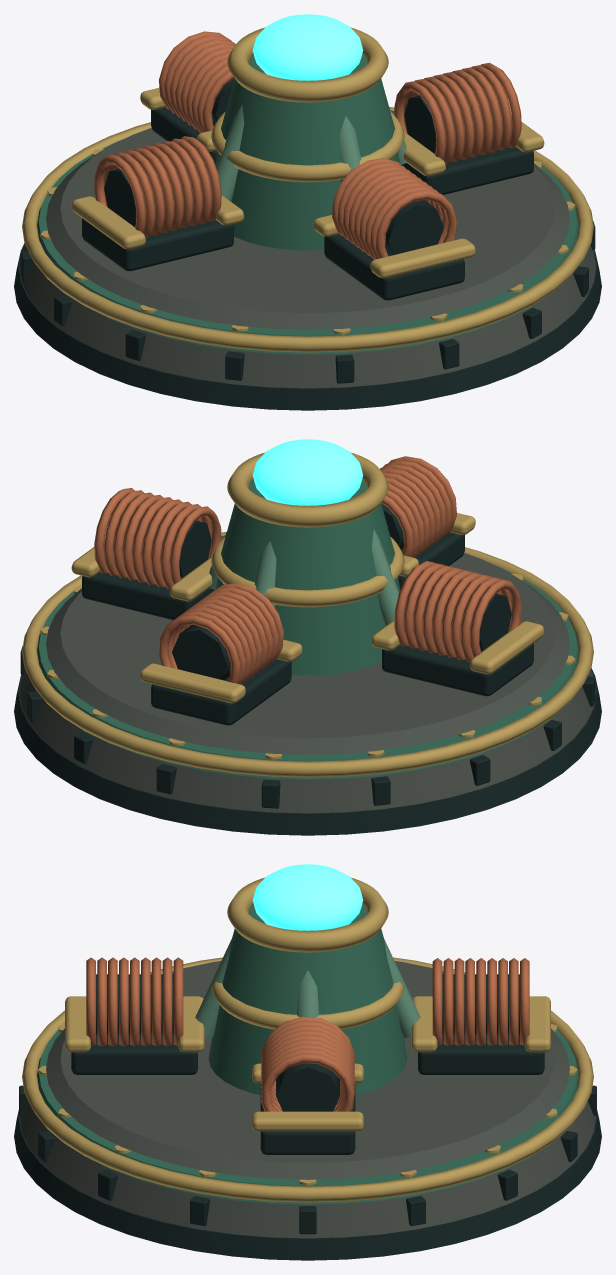
The model's file is warrior-3.glb.
The picture shows the model from 3 angles, top to bottom: view 1: azimuth 30°, elevation 25°; view 2: azimuth 150°, elevation 25°; view 3: azimuth 270°, elevation 25°; orthographic projection.
Visible parts, largest first — view 1: warrior-3, turret-yaw; view 2: warrior-3, turret-yaw; view 3: warrior-3, turret-yaw.
Part boxes in pixels (x1=…): warrior-3: x1=14, y1=31, x2=601, y2=410; turret-yaw: x1=221, y1=14, x2=394, y2=165; warrior-3: x1=14, y1=456, x2=601, y2=835; turret-yaw: x1=221, y1=439, x2=394, y2=590; warrior-3: x1=14, y1=939, x2=601, y2=1260; turret-yaw: x1=222, y1=864, x2=393, y2=1014.
Size of the model in its own units: 0.8888 by 0.4398 by 0.8888.
